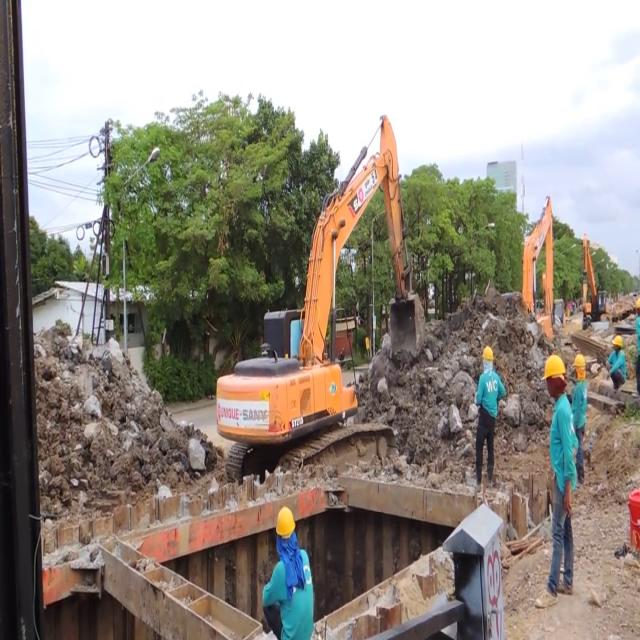excavator: (218, 112, 434, 497), (509, 191, 568, 354)
